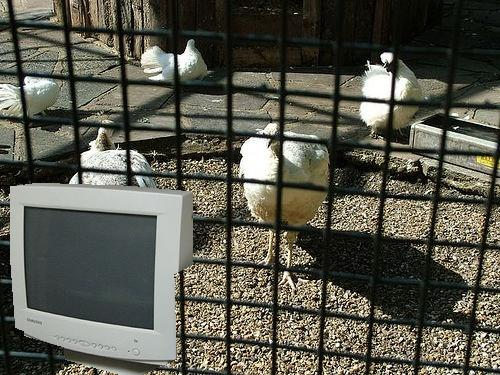tampered: (11, 184, 193, 375)
